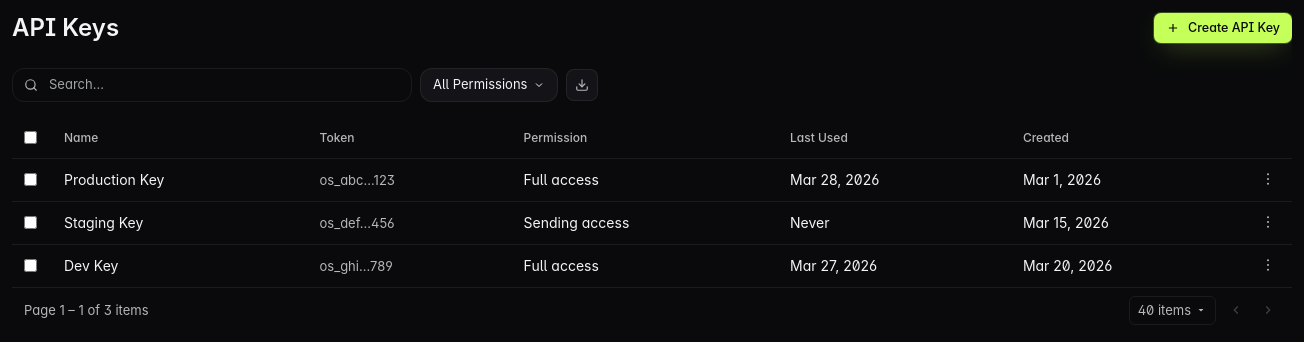
Test: API Keys List Page › filters by permission type
// Find and click permissions dropdown
Click the button "All Permissions" at (489, 85), box [420,68,558,102]
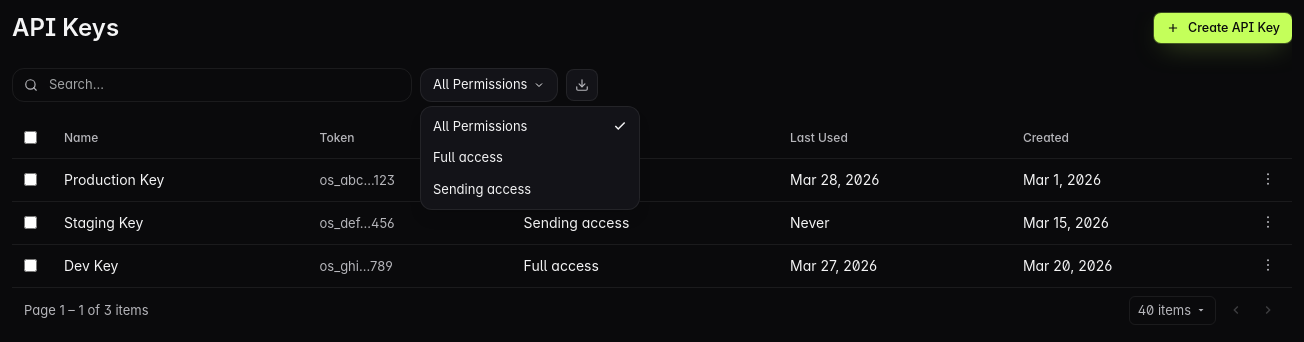
Now the button "Sending access" is shown
Click the button "Sending access" at (530, 189), box [421,174,639,205]
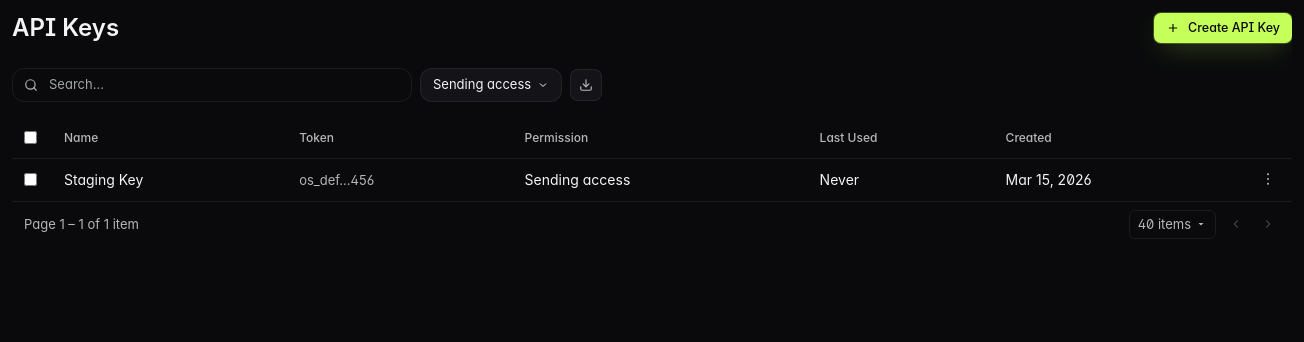
Expected: the button "Staging Key" is shown, [64,169,143,190]
Now the button "Production Key" is gone
